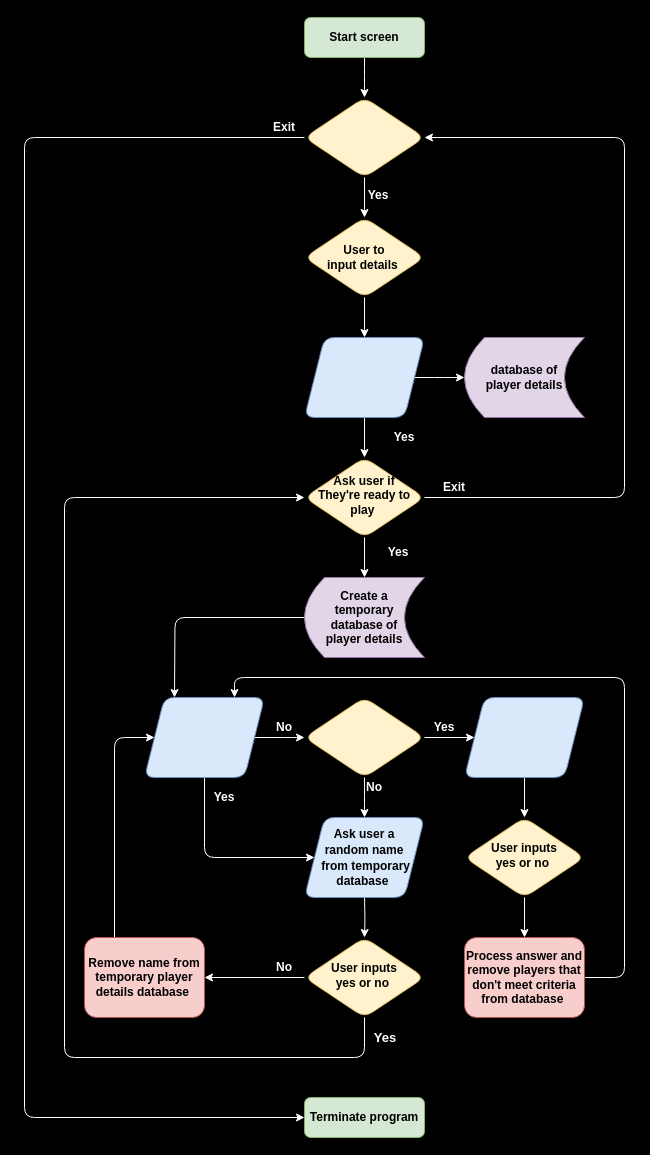
Image size: 650x1155. Some labels were removed from this diagram. Here are the shapes that lost their labels. From the top down, the centre of each, then its label:
At (x=364, y=137): "Ask user if they want to play".
At (x=364, y=377): "Players details are added to the current database".
At (x=204, y=737): "Have more than 3 questions been asked".
At (x=364, y=737): "Are there any categories that left in data base".
At (x=524, y=737): "Ask user a random question from details in database".
